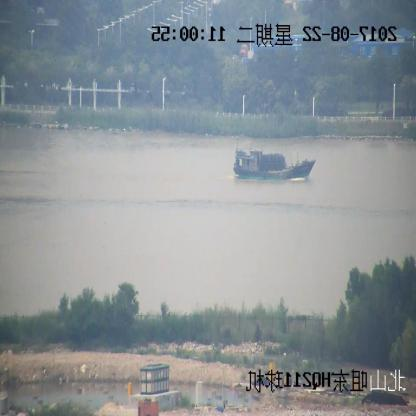Fishing Boat: (234, 148, 315, 181)
